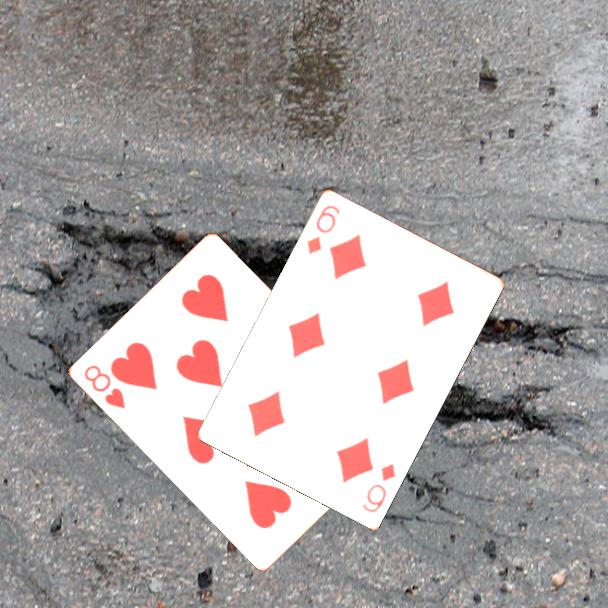d06: (303, 201, 343, 257), (359, 460, 398, 515)
h08: (81, 361, 129, 412)
